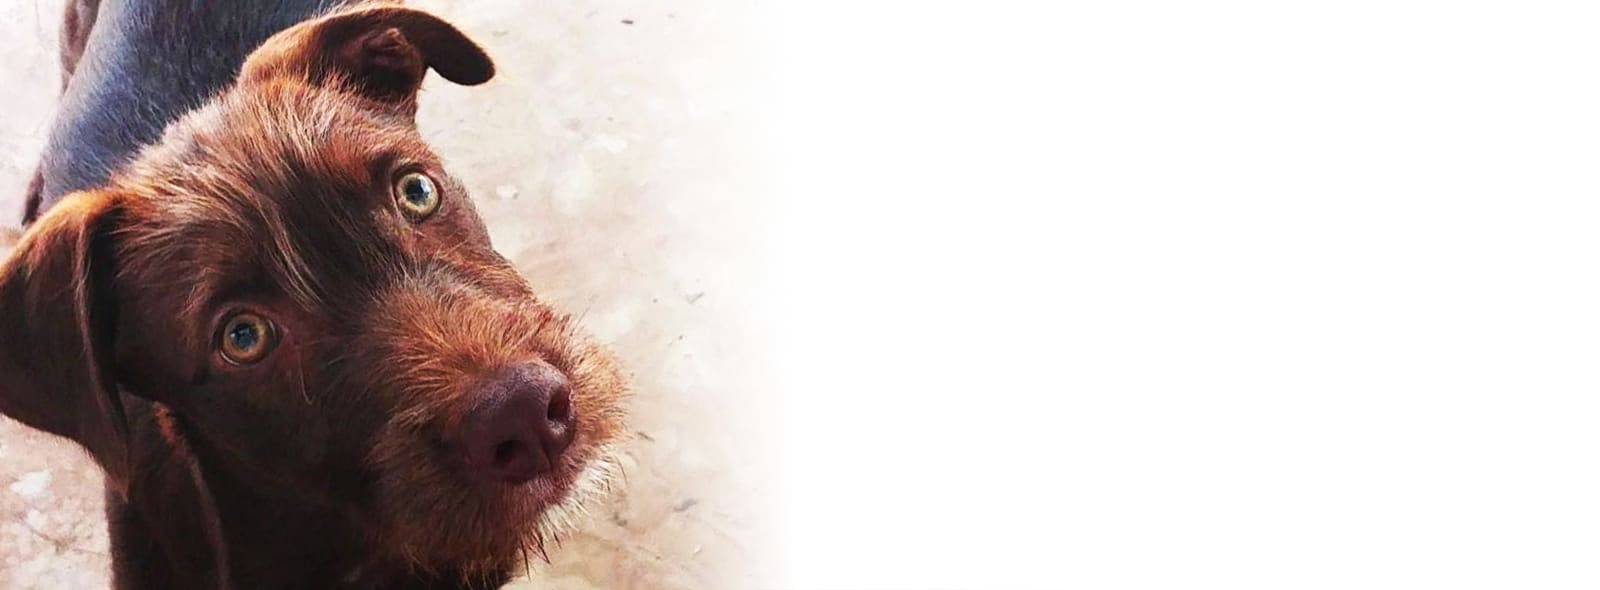pet: (118, 46, 459, 590)
